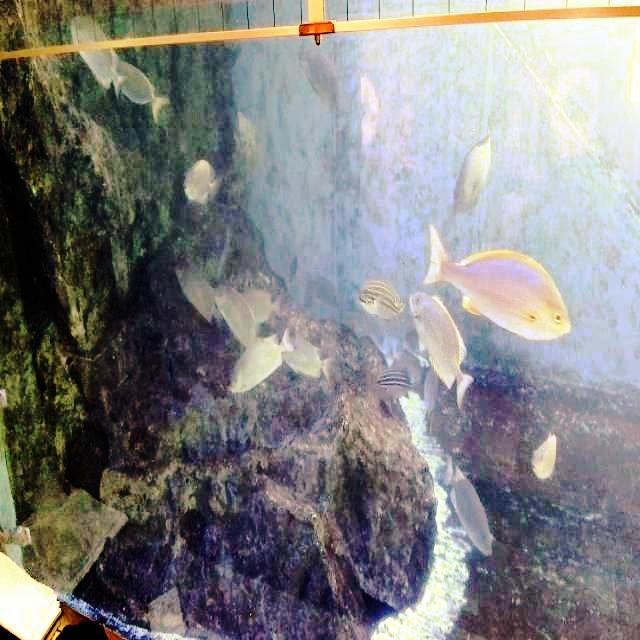Plectorhinchus lessonii: (353, 270, 410, 332)
gold snapper: (420, 211, 578, 350), (403, 278, 478, 406), (439, 447, 504, 565), (62, 8, 131, 112), (222, 326, 300, 401), (111, 49, 174, 138), (444, 132, 496, 226), (208, 276, 264, 360), (278, 326, 342, 399), (167, 254, 221, 327), (235, 262, 292, 328), (180, 150, 227, 218), (370, 362, 428, 411), (526, 430, 564, 492)
